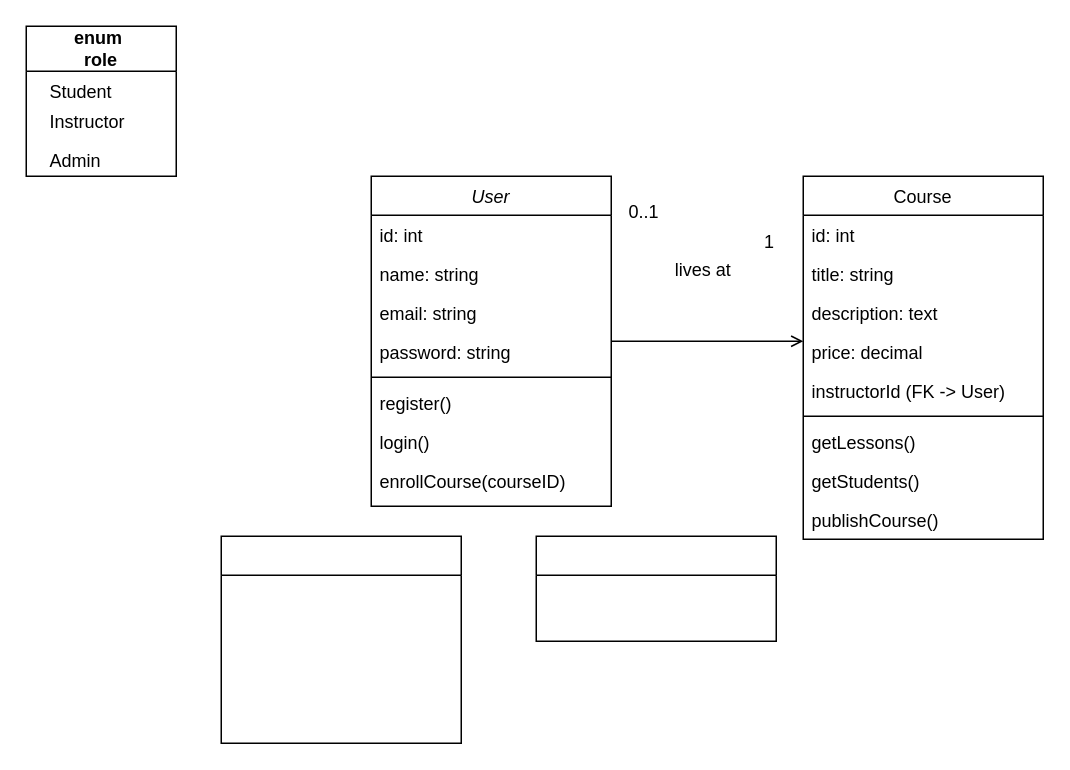
Some shapes in this 1070 by 770 pixel diagram are drawn without their labels. The shapes that lost their labels are listed below. From the top down, each one's centre as x and y in pixels, then its label:
the point at 655,588: Professor
the point at 340,639: Enrollment
